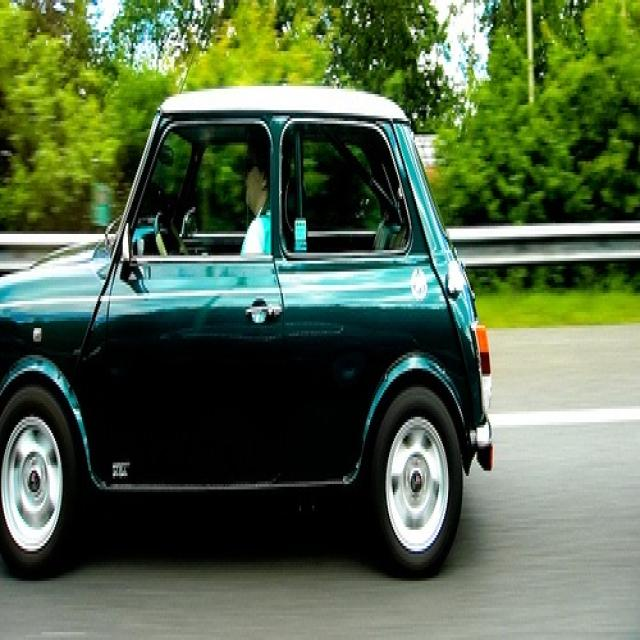light_vehicle: (0, 78, 494, 570)
